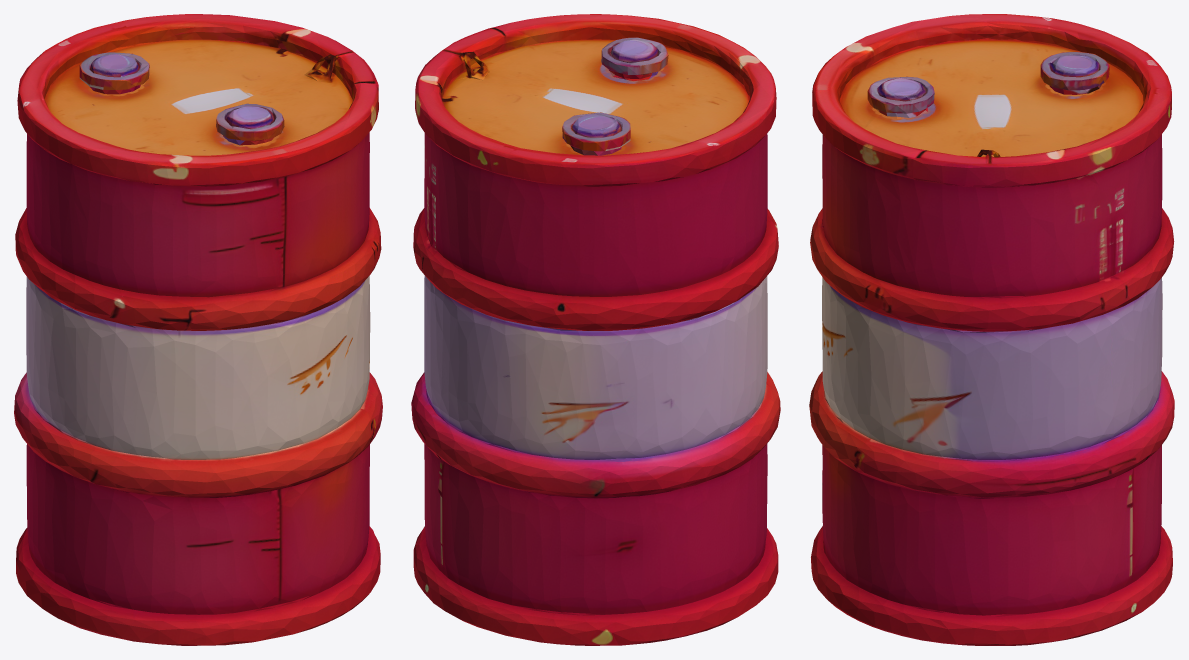
3 renders of one model, left to right at view 1: azimuth 30°, elevation 25°; view 2: azimuth 150°, elevation 25°; view 3: azimuth 270°, elevation 25°, orthographic.
Parts seen in each view (by area): view 1: 0_1234_50_5.0_384_8000.obj; view 2: 0_1234_50_5.0_384_8000.obj; view 3: 0_1234_50_5.0_384_8000.obj.
Boxes of the visible parts, x1,y1,x2,y2 form: 0_1234_50_5.0_384_8000.obj: [14, 14, 382, 645]; 0_1234_50_5.0_384_8000.obj: [411, 14, 780, 645]; 0_1234_50_5.0_384_8000.obj: [809, 14, 1174, 645].
Size of the model in its own units: 1.35 by 1.99 by 1.35.
Materials: 1 (1 with a texture image).
